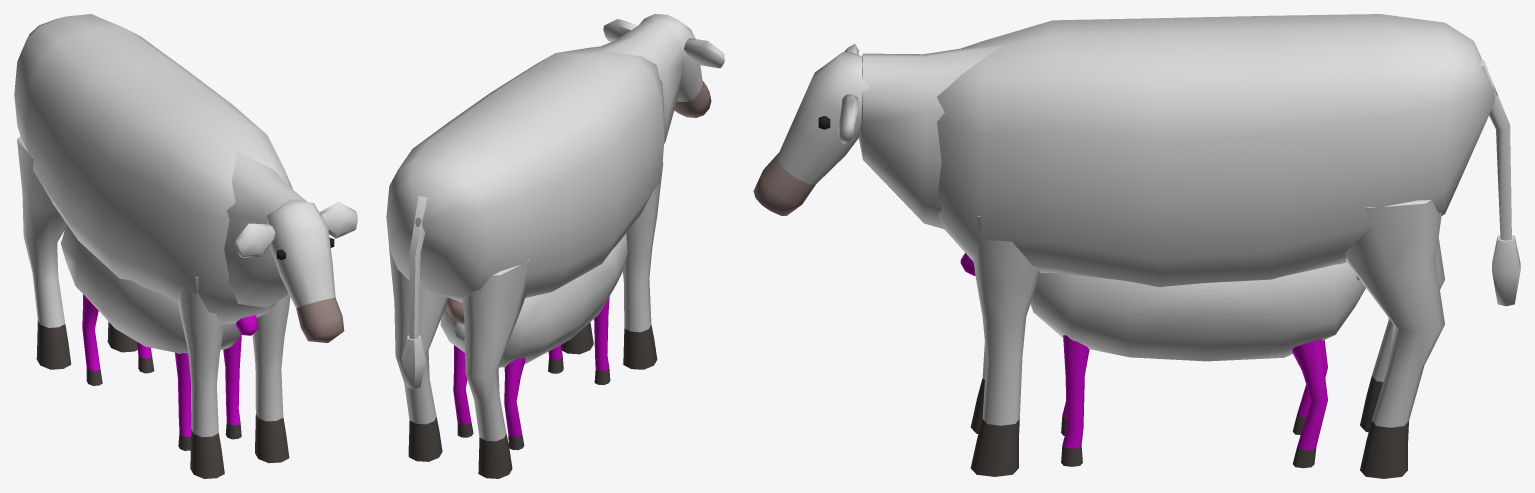
File: cattle.glb
3 renders of one model, left to right at view 1: azimuth 30°, elevation 25°; view 2: azimuth 150°, elevation 25°; view 3: azimuth 270°, elevation 25°, orthographic. The views are drawn at different scales.
Parts seen in each view (by area): view 1: Cow_Body, Cow_Head, Sheep_Body, Cow_Leg_BR, Cow_Neck, Cow_Leg_FR, Cow_Leg_FL, Sheep_Leg_FL, Sheep_Leg_FR, Sheep_Leg_BR, Cow_Leg_BL, Sheep_Leg_BL; view 2: Cow_Body, Cow_Leg_BR, Sheep_Body, Cow_Leg_BL, Cow_Leg_FR, Cow_Head, Cow_Neck, Cow_Tail, Sheep_Leg_BR, Sheep_Leg_BL, Sheep_Leg_FR, Cow_Leg_FL (+1 smaller); view 3: Cow_Body, Sheep_Body, Cow_Leg_BL, Cow_Neck, Cow_Leg_FL, Cow_Head, Cow_Tail, Sheep_Leg_BL, Sheep_Leg_FL, Cow_Leg_BR.
Part boxes in pixels (box(x1,y1,x2,y2)): Cow_Body: box(14, 14, 292, 324); Cow_Head: box(234, 200, 357, 342); Sheep_Body: box(60, 224, 241, 353); Cow_Leg_BR: box(17, 136, 71, 369); Cow_Neck: box(224, 151, 306, 307); Cow_Leg_FR: box(177, 277, 224, 478); Cow_Leg_FL: box(252, 293, 290, 463); Sheep_Leg_FL: box(223, 335, 241, 439); Sheep_Leg_FR: box(175, 352, 191, 450); Sheep_Leg_BR: box(82, 294, 102, 385); Cow_Leg_BL: box(107, 322, 137, 352); Sheep_Leg_BL: box(137, 342, 154, 373); Cow_Body: box(386, 46, 664, 322); Cow_Leg_BR: box(462, 260, 529, 478); Sheep_Body: box(440, 233, 627, 367); Cow_Leg_BL: box(389, 248, 448, 461); Cow_Leg_FR: box(622, 162, 663, 369); Cow_Head: box(603, 14, 724, 117); Cow_Neck: box(601, 20, 683, 143); Cow_Tail: box(402, 196, 428, 389); Sheep_Leg_BR: box(504, 357, 525, 450); Sheep_Leg_BL: box(453, 345, 473, 437); Sheep_Leg_FR: box(594, 297, 610, 385); Cow_Leg_FL: box(561, 322, 593, 354); Cow_Body: box(937, 14, 1497, 286); Sheep_Body: box(1030, 262, 1365, 361); Cow_Leg_BL: box(1345, 199, 1444, 478); Cow_Neck: box(859, 46, 1001, 229); Cow_Leg_FL: box(970, 216, 1040, 476); Cow_Head: box(753, 44, 869, 215); Cow_Tail: box(1481, 59, 1520, 306); Sheep_Leg_BL: box(1292, 339, 1327, 468); Sheep_Leg_FL: box(1061, 335, 1089, 466); Cow_Leg_BR: box(1360, 238, 1444, 432).
Bounding box in the file's own units: 0.68 × 1.44 × 2.38.
